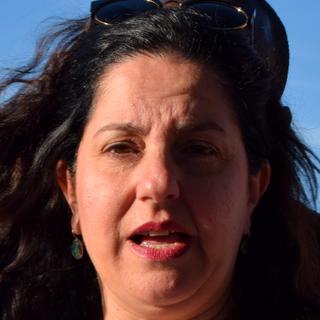eye: (97, 140, 140, 157)
